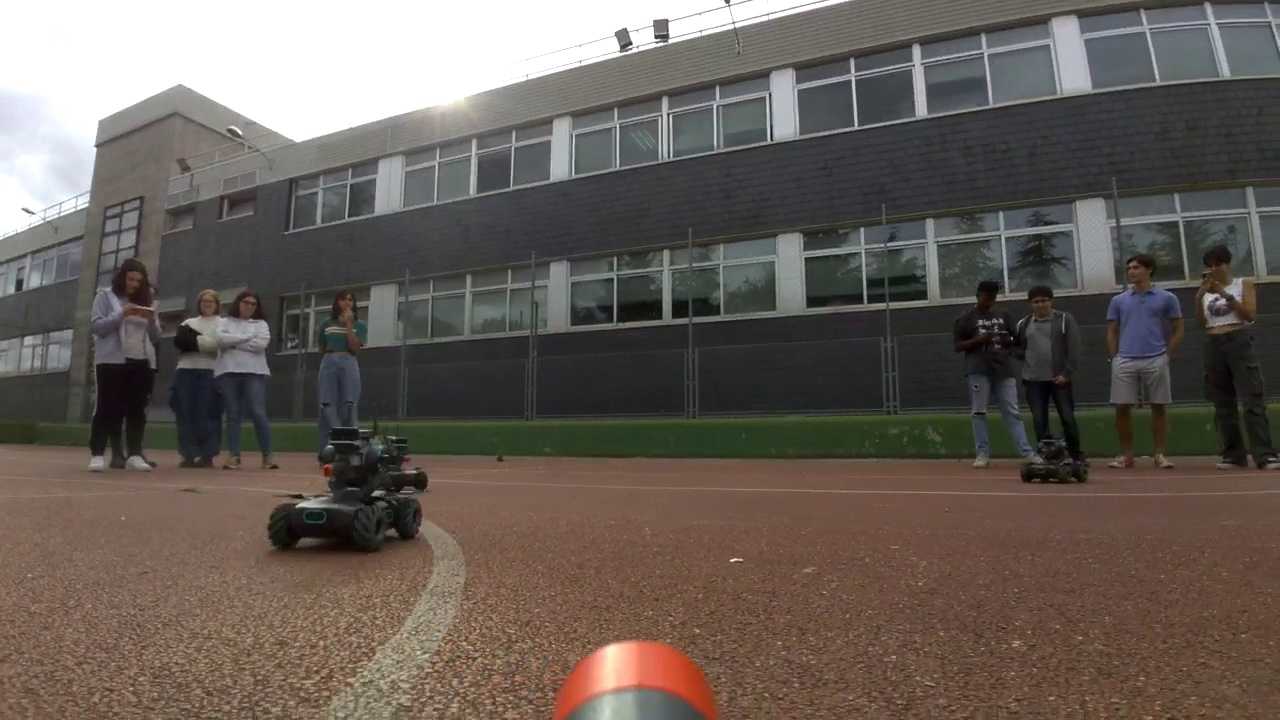robot: (267, 430, 421, 551), (1021, 439, 1088, 483)
